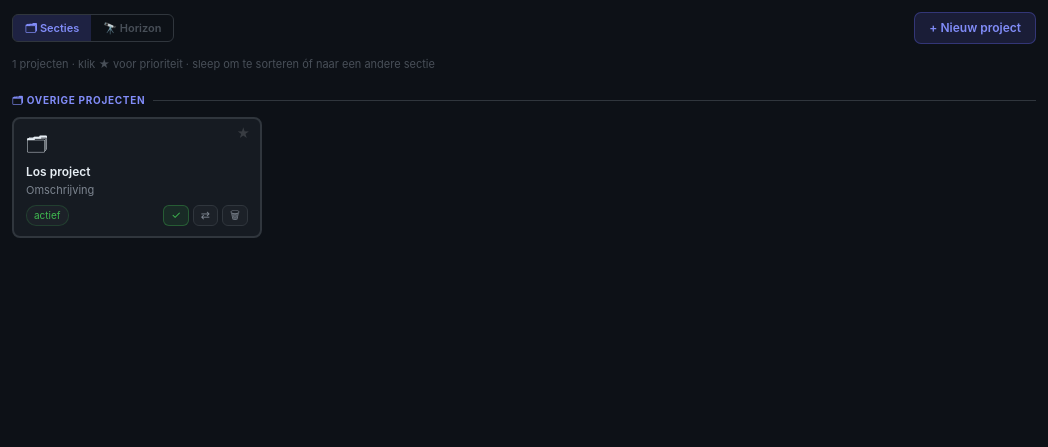
Scenario: ProjectsTab — horizon-weergave › toont een project zonder horizon onder "Nog niet ingedeeld"
Click the button "🔭 Horizon": x=132, y=28 [91,15,174,41]
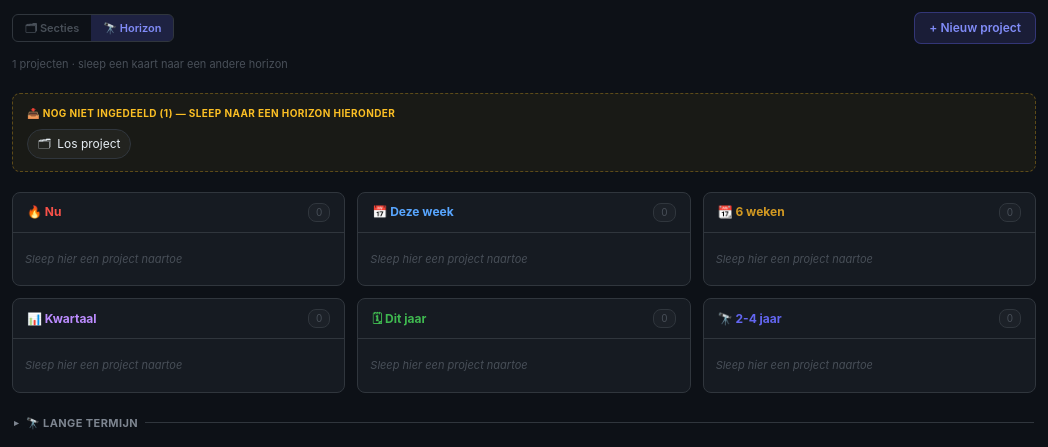
Check: the text "Los project" is shown, box [57,134,120,152]
Check: the text "📥 Nog niet ingedeeld (1) — sleep naar een horizon hieronder" is shown, box [27,106,395,118]
